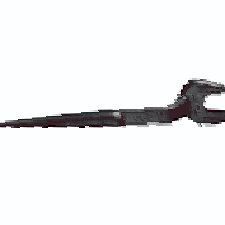wrench: (2, 71, 225, 148)
